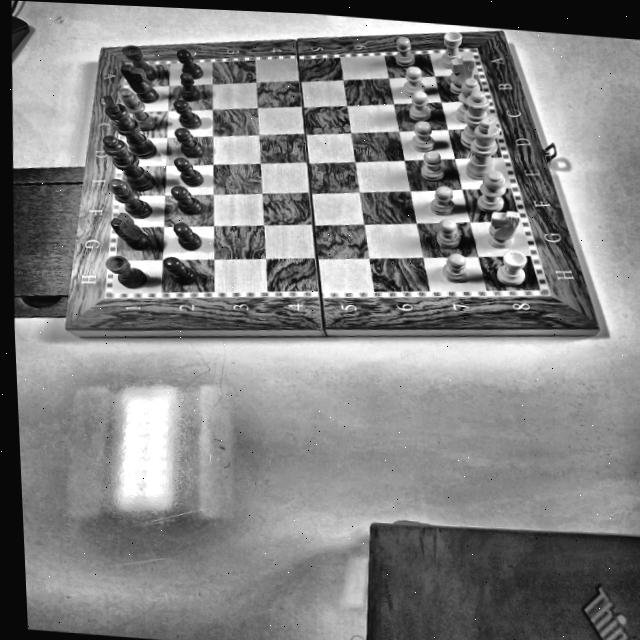black-bishop: (100, 173, 156, 218), (114, 86, 160, 135)
black-king: (94, 90, 160, 159)
black-knight: (116, 61, 164, 103), (110, 208, 154, 253)
black-pawn: (170, 153, 211, 190), (164, 184, 206, 218), (172, 126, 208, 159), (174, 45, 208, 79), (173, 217, 205, 252), (172, 98, 206, 130), (175, 71, 206, 103), (165, 257, 200, 285)
black-queen: (97, 135, 160, 190)
black-rook: (106, 250, 153, 291), (119, 39, 162, 80)
white-bishop: (470, 166, 509, 211), (456, 77, 480, 124)
white-king: (460, 114, 506, 179)
white-knight: (480, 208, 523, 249), (443, 48, 480, 92)
white-pawn: (436, 250, 478, 285), (386, 30, 424, 67), (397, 63, 430, 95), (426, 185, 460, 216), (433, 217, 464, 251), (418, 150, 448, 184), (405, 91, 435, 122), (409, 120, 437, 152)
white-queen: (456, 88, 493, 145)
white-rook: (495, 248, 536, 291), (437, 31, 465, 71)
